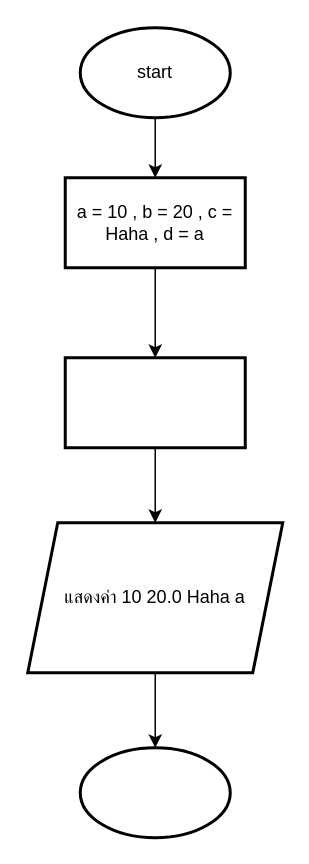
Some shapes in this 309 by 864 pixel diagram are drawn without their labels. Each missing label, with the centre of its shape:
"end" goes at point (154, 792).
"ทำการเติมการออกเอ้าทพุตให้ครบ" goes at point (154, 402).
